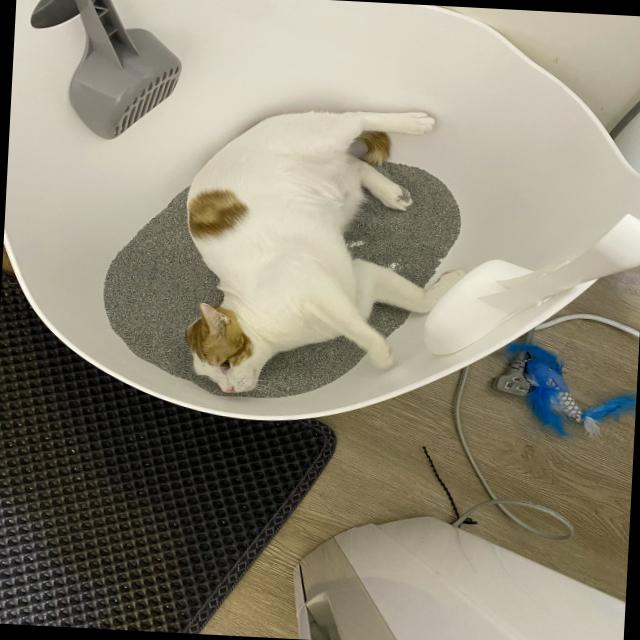cat1: (170, 100, 441, 404)
